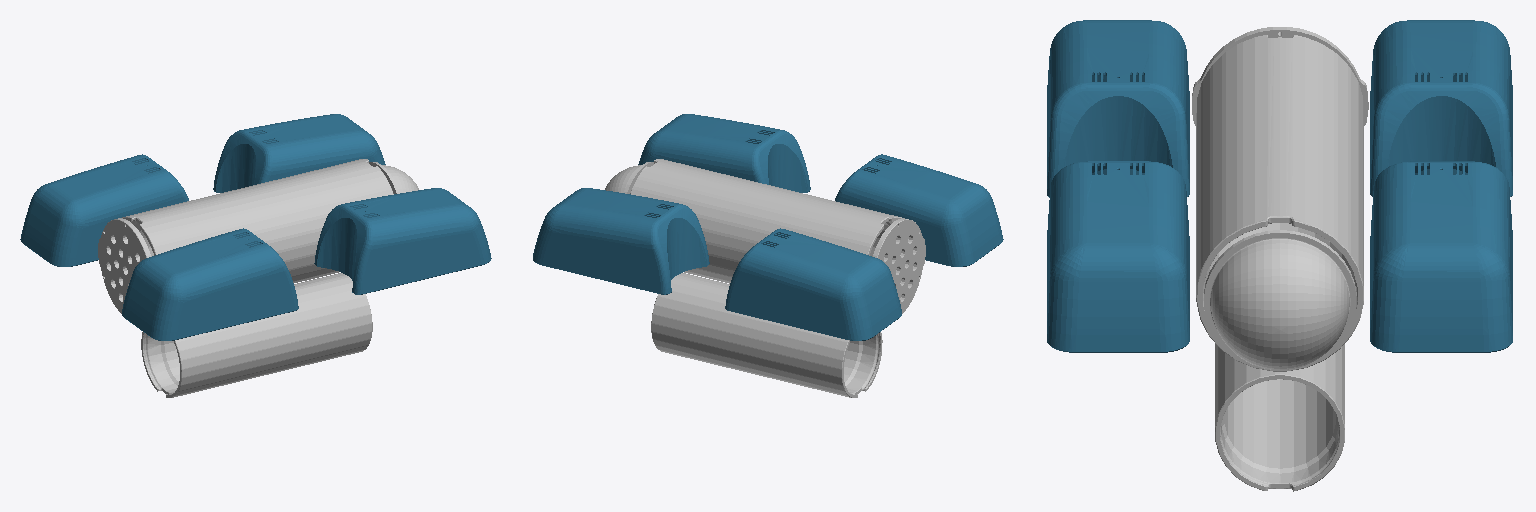
robot.urdf — bluerov:
<robot name="bluerov">

<!-- Materials -->
    <material name="white">
        <color rgba="0.8 0.8 0.8 0.8"/>
    </material>
    <material name="gray">
        <color rgba="0.3 0.3 0.3 1"/>
    </material>
    <!-- <material name="lightgray">
      <color rgba="0.6 0.6 0.6 1"/>
    </material> -->
    <material name="lightgray">
      <color rgba="0.2 0.2 0.2 1"/>
    </material>
    <material name="transparent" >
        <color rgba="0.3 0.3 0.3 0.25" />
    </material>
    <material name="blue">
        <color rgba="0.25 0.5 0.62 1"/>
    </material>
    <material name="black">
        <color rgba=".1 .1 .1 1"/>
    </material>

<!-- Vehicle -->
    <link name="vehicle_frame">
        <visual>
            <geometry>
                <!-- <mesh filename="meshes\bluerov_black.obj"/> -->
                <mesh filename="meshes/bluerov_black.obj"/>
            </geometry>
            <origin rpy="1.57075 0 1.57075" xyz="0 0 0"/>
            <material name="gray"/>
        </visual>
        <inertial>
            <!-- old sum added + actual = 20.9-->
            <!-- measured hardware mass minus alpha mass = 14.24kg-->
            <!-- Actual = 10 kg (5.5 x, 12.7 y, 14.57 z (avg 10.9))-->
            <mass value="25.14"/>
            <origin xyz="0 0 -.02"/>
            <!-- <inertia ixx="0.28" ixy="0" ixz="0" iyy="0.28" iyz="0" izz="0.28"/> -->
            <!-- Proportionally increasing inertia by 1.2 -->
            <!-- <inertia ixx="0.337" ixy="0" ixz="0" iyy=".337" iyz="0" izz="0.337"/> -->
            <!-- This one is just [author] messing around -->
            <!-- <inertia ixx="0.295" ixy="0" ixz="0" iyy=".382" iyz="0" izz="0.6003"/> -->
            <!-- This one is even more insane -->
            <inertia ixx="0.228" ixy="0" ixz="0" iyy=".381" iyz="0" izz="0.4185"/>
        </inertial> 
    </link>

    <link name="vehicle_ballast">
        <visual>
            <geometry>
                <!-- <mesh filename="meshes\bluerov_blue.obj"/> -->
                <mesh filename="meshes/bluerov_blue.obj"/>
            </geometry>
            <origin rpy="1.57075 0 1.57075" xyz="0 0 0"/>
            <material name="blue"/>
        </visual>
    </link>

    <joint name="frame_to_ballast" type="fixed">
        <parent link = "vehicle_frame"/>
        <child link = "vehicle_ballast"/>
        <origin rpy="0 0 0"/>
    </joint>

    <link name="vehicle_cans">
        <visual>
            <geometry>
                <!-- <mesh filename="meshes\bluerov_white.obj"/> -->
                 <mesh filename="meshes/bluerov_white.obj"/>
            </geometry>
           <origin rpy="1.57075 0 1.57075" xyz="0 0 0"/>
            <material name="white"/>
        </visual>
    </link>

    <joint name="frame_to_cans" type="fixed">
        <parent link = "vehicle_frame"/>
        <child link = "vehicle_cans"/>
        <origin rpy="0 0 0"/>
    </joint>

<!-- ======================================= -->
<!--               ALPHA LINKS               -->
<!-- ======================================= -->
  <joint name="arm_to_vehicle" type="fixed">
    <!-- <origin rpy="0 0 0" xyz=".255 -.10965 0.005"/> -->
    <origin rpy="0 0 0" xyz=".25 -.10965 0.005"/>
    <parent link="vehicle_frame"/>
    <child link="r5m_base_link"/>
  </joint>

  <link name="r5m_base_link">
    <visual>
      <geometry>
        <!-- <mesh filename="[local-path]/Stuff/coupledDynamics/meshes/archived_meshes/Base3.obj"/> -->
        <!-- <mesh filename="meshes\Base3.obj"/> -->
        <mesh filename="meshes/Base3.obj"/>
      </geometry>
      <origin rpy="1.57075 0 0" xyz="0 0 0"/>
      <!-- <origin rpy="0 0 0" xyz="0 0 0"/> -->
      <material name="lightgray"/>
    </visual>
    <collision>
      <geometry>
        <cylinder length="0.150" radius="0.020"/>
      </geometry>
      <origin rpy="0 1.57075 0" xyz="-0.075 0 0"/>
    </collision>
    <inertial>
      <!-- Actual -->
      <!-- <mass value="0.341"/>  -->
      <!-- Actual + added -->
      <mass value="0.53"/> 
      <origin xyz="-0.075 -0.006 -0.003"/>
      <inertia ixx="0.000099" ixy="0.000139" ixz="0.000115" iyy="0.004334" iyz="0.000003" izz="0.004348"/>
    </inertial>
  </link>

  <joint name="r5m_joint5" type="revolute">
    <parent link="r5m_base_link"/>
    <child link="r5m_shoulder_link"/>
    <origin rpy="0 0 0" xyz="0 0 0"/>
    <!-- <origin rpy="0 0 3.141592" xyz="0 0 0"/> -->
    <axis xyz="0 0 1"/>
    <limit effort="9.0" lower="0.0" upper="6.2" velocity="0.5"/>
  </joint>

  <link name="r5m_shoulder_link">
    <visual>
      <geometry>
        <!-- <mesh filename="[local-path]/Stuff/coupledDynamics/meshes/archived_meshes/ShoulderJoint3.obj"/> -->
        <!-- <mesh filename="meshes\ShoulderJoint3.obj"/> -->
        <mesh filename="meshes/ShoulderJoint3.obj"/>
      </geometry>
      <material name="lightgray"/>
      <!-- <origin rpy="0 3.1415 -1.57075" xyz="0 0 0"/> -->
      <origin rpy="-1.57075 3.1415 1.57075" xyz="0 0 0"/>
    </visual>
    <collision>
      <geometry>
        <cylinder length="0.066" radius="0.020"/>
      </geometry>
      <origin rpy="0 0 0" xyz="0 0 0.010"/>
    </collision>
    <inertial>
      <!-- Actual -->
      <!-- <mass value="0.194"/>  -->
      <!-- Actual + added -->
      <mass value="0.226"/>
      <origin xyz="0.005 -0.001 0.016"/>
      <inertia ixx="0.000196" ixy="0.000005" ixz="0.000054" iyy="0.000220" iyz="0.000003" izz="0.000067"/>
    </inertial>
  </link>

  <joint name="r5m_joint4" type="revolute">
    <parent link="r5m_shoulder_link"/>
    <child link="r5m_upper_arm_link"/>
    <origin rpy="1.57075 1.3 0" xyz="0.020 0 0.046"/>
    <!-- <origin rpy="1.57075 -0.27079 0" xyz="0.020 0 0.046"/> -->
    <axis xyz="0 0 1"/>
    <limit effort="9.0" lower="0.0" upper="3.5" velocity="0.5"/>
  </joint>

  <link name="r5m_upper_arm_link">
    <visual>
      <geometry>
        <!-- <mesh filename="[local-path]/Stuff/coupledDynamics/meshes/archived_meshes/UpperArm3.obj"/> -->
        <!-- <mesh filename="meshes\UpperArm3.obj"/> -->
        <mesh filename="meshes/UpperArm3.obj"/>
      </geometry>
      <!-- <origin rpy="0 -1.57075 -0.2655555" xyz="0 0 -0.075"/> -->
      <origin rpy="0 -1.57075 1.305240" xyz="0 0 -0.075"/>
      <material name="lightgray"/>
    </visual>
    <collision>
      <geometry>
        <cylinder length="0.145" radius="0.020"/>
      </geometry>
      <origin rpy="0 1.57075 -0.27075" xyz="0.075 0 0"/>
    </collision>
    <collision>
      <geometry>
        <cylinder length="0.040" radius="0.020"/>
      </geometry>
      <origin rpy="0 0 0" xyz="0 0 0"/>
    </collision>
    <inertial>
      <!-- Actual -->
      <!-- <mass value="0.429"/>  -->
      <mass value="0.630"/>
      <origin xyz="0.073 0.0 0.0"/>
      <inertia ixx="0.000087" ixy="-0.000076" ixz="-0.000010" iyy="0.004906" iyz="0.000000" izz="0.004929"/>
    </inertial>
  </link>

  <joint name="r5m_joint3" type="revolute">
    <parent link="r5m_upper_arm_link"/>
    <child link="r5m_forearm_link"/>
    <origin rpy="3.1415 0 1.3" xyz="0.15 0 0"/>
    <axis xyz="0 0 1"/>
    <limit effort="9.0" lower="0.0" upper="3.5" velocity="0.5"/>
  </joint>

  <link name="r5m_forearm_link">
    <visual>
      <geometry>
        <!-- <mesh filename="[local-path]/Stuff/coupledDynamics/meshes/archived_meshes/ElbowJoint3.obj"/> -->
        <!-- <mesh filename="meshes\ElbowJoint3.obj"/> -->
        <mesh filename="meshes/ElbowJoint3.obj"/>
      </geometry>
      <origin rpy="1.57075 0 0" xyz="0 0 0"/>
      <material name="lightgray"/>
    </visual>
    <collision>
      <geometry>
        <cylinder length="0.040" radius="0.020"/>
      </geometry>
      <origin rpy="0 0 0" xyz="0 0 0"/>
    </collision>
    <inertial>
      <!-- Actual -->
      <!-- <mass value="0.115"/>  -->
      <mass value="0.147"/>
      <origin xyz="0.017 -0.026 -0.002"/>
      <inertia ixx="0.000127" ixy="-0.000061" ixz="-0.000001" iyy="0.000062" iyz="0.000000" izz="0.000163"/>
    </inertial>
  </link>

  <joint name="r5m_joint2" type="revolute">
    <parent link="r5m_forearm_link"/>
    <child link="r5m_wrist_link"/>
    <!-- <origin rpy="-1.57075 -0.5 0" xyz="0.020 0 0"/> -->
    <origin rpy="-1.57075 0.0 0" xyz="0.020 0 0"/>
    <axis xyz="0 0 1"/>
    <limit effort="5.0" lower="0.0" upper="6.0" velocity="1.0"/>
  </joint>

  <link name="r5m_wrist_link">
    <visual>
      <geometry>
        <!-- <mesh filename="[local-path]/Stuff/coupledDynamics/meshes/archived_meshes/Wrist3.obj"/> -->
        <mesh filename="meshes/Wrist3.obj"/>
        <!-- <mesh filename="meshes\Wrist3.obj"/> -->
      </geometry>
      <origin rpy="1.57075 0 0" xyz="0 0 0"/>
      <material name="lightgray"/>
    </visual>
    <collision>
      <geometry>
        <cylinder length="0.140" radius="0.020"/>
      </geometry>
      <origin rpy="0 0 0" xyz="0 0 -0.070"/>
    </collision>
    <inertial>
      <!-- Actual -->
      <!-- <mass value="0.333"/>  -->
      <mass value="0.559"/>
      <origin xyz="0.0 0.003 -0.098"/>
      <!-- <inertia ixx="0.006152" ixy="-0.000002" ixz="-0.000004" iyy="0.006177" iyz="0.000000" izz="0.000079"/> -->
      <inertia ixx="0.006152" ixy="-0.000002" ixz="-0.000004" iyy="0.006177" iyz="0.000000" izz="0.000079"/>
    </inertial>
  </link>

  <link name="r5m_jaw">
    <inertial>
      <mass value="0.01"/>
      <origin xyz="0. 0. 0."/>
      <inertia ixx="0.000010" ixy="0.0" ixz="0.0" iyy="0.000010" iyz="0.0" izz="0.000010"/>
    </inertial>
  </link>

  <joint name="r5m_joint_jaw" type="fixed">
    <parent link="r5m_wrist_link"/>
    <child link="r5m_jaw"/>
    <axis xyz="0 0 1"/>
    <origin rpy="0 0 0" xyz="0 0 -0.190"/>
  </joint>

  <link name="r5m_jaw1">
    <visual>
      <geometry>
        <!-- <mesh filename="[local-path]/Stuff/coupledDynamics/meshes/archived_meshes/Jaw1_v2.obj"/> -->
        <mesh filename="meshes/Jaw1_v2.obj"/>
        <!-- <mesh filename="meshes\Jaw1_v2.obj"/> -->
      </geometry>
      <origin rpy="1.57075 0 0" xyz="0 0 0"/>
      <material name="lightgray"/>
    </visual>
    <collision>
      <geometry>
        <box size="0.03 0.09 0.01"/>
      </geometry>
      <origin rpy="0 0 0" xyz="-0.01 -0.045 0"/>
    </collision>
    <!-- TODO: GET APPROPOATE MASSES (this is 50g ball at end) -->
    <inertial>
      <mass value="0.05"/>
      <origin xyz="-.01 -0.045 0.0"/>
      <inertia ixx="0.000010" ixy="0.0" ixz="0.0" iyy="0.000010" iyz="0.0" izz="0.000010"/>
    </inertial>
  </link>

  <link name="r5m_jaw2">
    <visual>
      <geometry>
        <!-- <mesh filename="[local-path]/Stuff/coupledDynamics/meshes/archived_meshes/Jaw2_v2.obj"/> -->
        <!-- <mesh filename="meshes\Jaw2_v2.obj"/> -->
        <mesh filename="meshes/Jaw2_v2.obj"/>
      </geometry>
      <origin rpy="1.57075 0 0" xyz="0 0 0"/>
      <material name="lightgray"/>
    </visual>
    <collision>
      <geometry>
        <box size="0.03 0.09 0.01"/>
      </geometry>
      <origin rpy="0 0 0" xyz="0.01 -0.045 0"/>
    </collision>
    <!-- TODO: GET APPROPOATE MASSES -(this is 50g ball at end)  -->
    <inertial>
      <mass value="0.05"/>
      <origin xyz="0.01 -0.045 0.0"/>
      <inertia ixx="0.000010" ixy="0.0" ixz="0.0" iyy="0.000010" iyz="0.0" izz="0.000010"/>
    </inertial>
  </link>

  <joint name="r5m_joint1_1" type="fixed">
    <parent link="r5m_jaw"/>
    <child link="r5m_jaw2"/>
    <origin rpy="1.57075 0 0" xyz="-0.015 0 .05"/>
    <axis xyz="0 0 -1"/>
    <limit effort="5.0" lower="0.0" upper="0.5" velocity="0.5"/>
  </joint>

  <joint name="r5m_joint1_2" type="fixed">
    <parent link="r5m_jaw"/>
    <child link="r5m_jaw1"/>
    <origin rpy="1.57075 0 0" xyz="0.015 0 .05"/>
    <axis xyz="0 0 1"/>
    <limit effort="5.0" lower="0.0" upper="0.5" velocity="0.5"/>
  </joint>  



</robot>

--- What the picture shows (computed from the rendered views, not written in the file) ---
Views: 3 orthographic renders of the robot side by side, from view 1: azimuth 30°, elevation 25°; view 2: azimuth 150°, elevation 25°; view 3: azimuth 270°, elevation 25°.
Robot: bluerov — 11 links, 10 joints (4 revolute, 6 fixed); root link vehicle_frame; default pose: all joints at 0.
Links seen in each view (by area): view 1: vehicle_ballast, vehicle_cans; view 2: vehicle_ballast, vehicle_cans; view 3: vehicle_ballast, vehicle_cans.
Link boxes in pixels (bbox=[...]): vehicle_ballast: bbox=[20, 114, 491, 340]; vehicle_cans: bbox=[98, 159, 418, 397]; vehicle_ballast: bbox=[533, 114, 1003, 340]; vehicle_cans: bbox=[605, 159, 925, 397]; vehicle_ballast: bbox=[1047, 20, 1512, 352]; vehicle_cans: bbox=[1192, 27, 1368, 491].
Size in the robot's own frame: 0.4252 by 0.3177 by 0.2215 metres.
Meshes: 10 distinct files referenced, 2 mesh visuals loaded (2 OBJ); not drawn: 8 (reference not matched to a file when rendering).